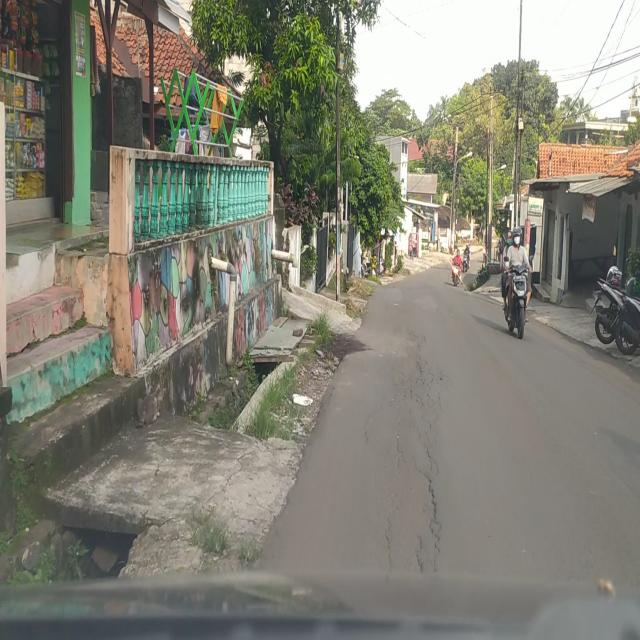Drain Hole: (386, 327, 444, 571)
